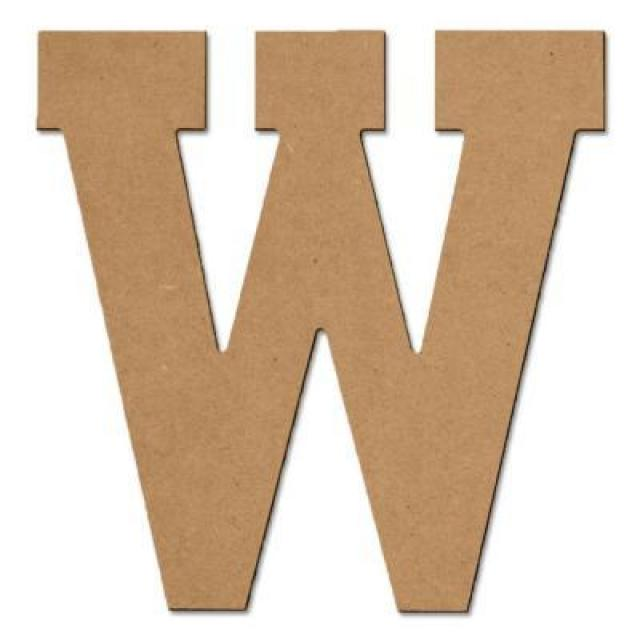W: (13, 0, 608, 635)
